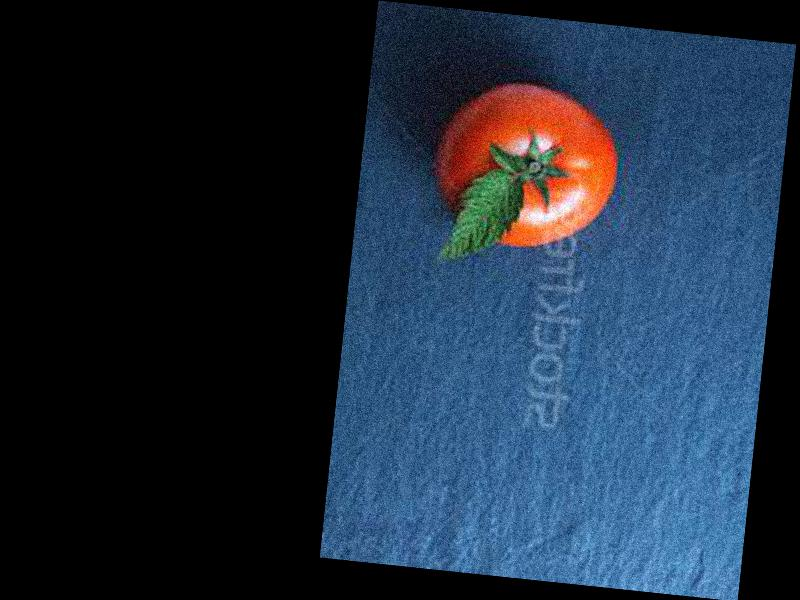Tomato: (431, 77, 624, 257)
